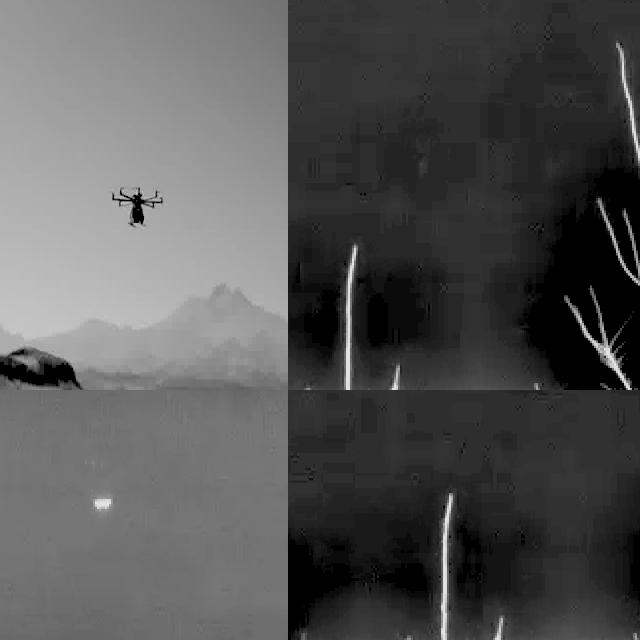0: (408, 152, 430, 186), (515, 390, 537, 400)
1: (83, 493, 119, 523)
drone: (111, 183, 167, 228)
